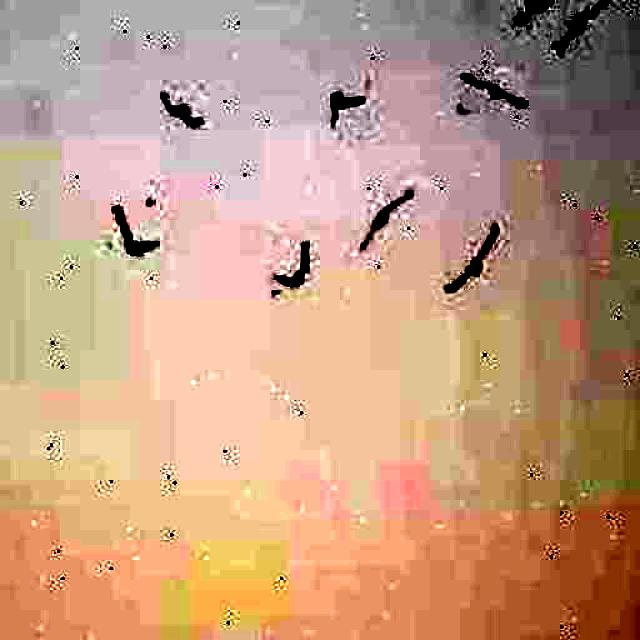airplane: (360, 192, 418, 251), (446, 231, 498, 291), (555, 0, 611, 55), (110, 205, 160, 261), (459, 71, 528, 111), (270, 242, 312, 290), (160, 91, 206, 132), (330, 89, 368, 129), (508, 0, 556, 26)
